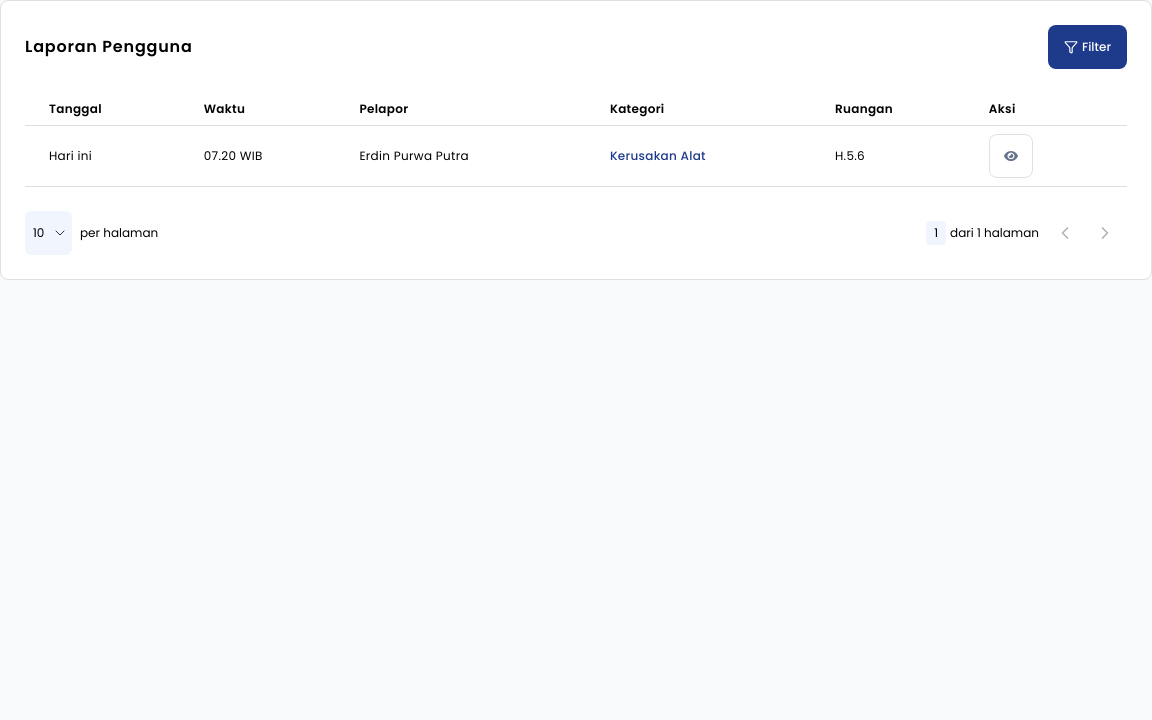
UserReportList › keeps the description out of the table and shows it in the detail dialog
Expected: the text "Proyektor mati di H.5.6" is not shown
Click the button named "Lihat detail laporan Erdin Purwa Putra": click(1011, 156) x1=989 y1=134 x2=1033 y2=178
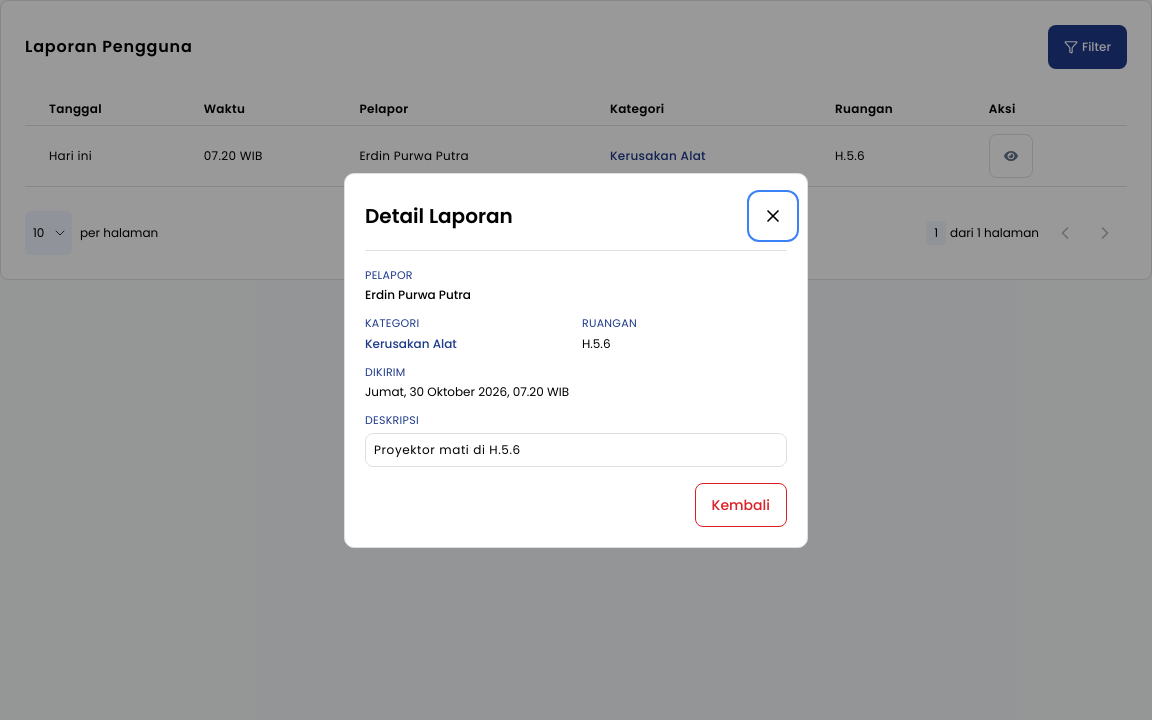
Result: the text "Proyektor mati di H.5.6" is shown at x1=365 y1=432 x2=787 y2=466
Result: the text "Kerusakan Alat" is shown at x1=365 y1=334 x2=457 y2=352
Result: the text "07.20 WIB" is shown at x1=365 y1=383 x2=569 y2=400
